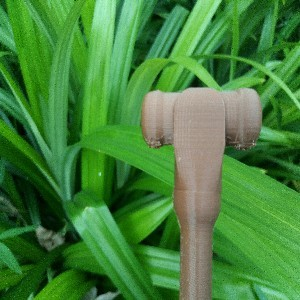palu: (140, 86, 262, 300)
